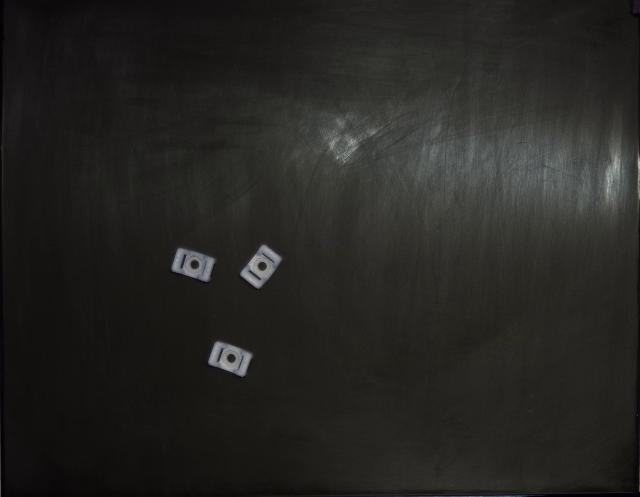first_side: (240, 245, 282, 289), (208, 341, 254, 378), (171, 249, 216, 282)
